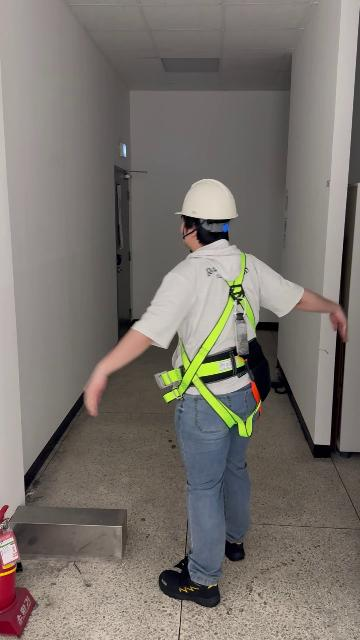helmet_worn: (174, 178, 240, 222)
shoe_worn: (159, 558, 220, 607), (224, 538, 244, 561)
vest_worn: (156, 256, 262, 435)
